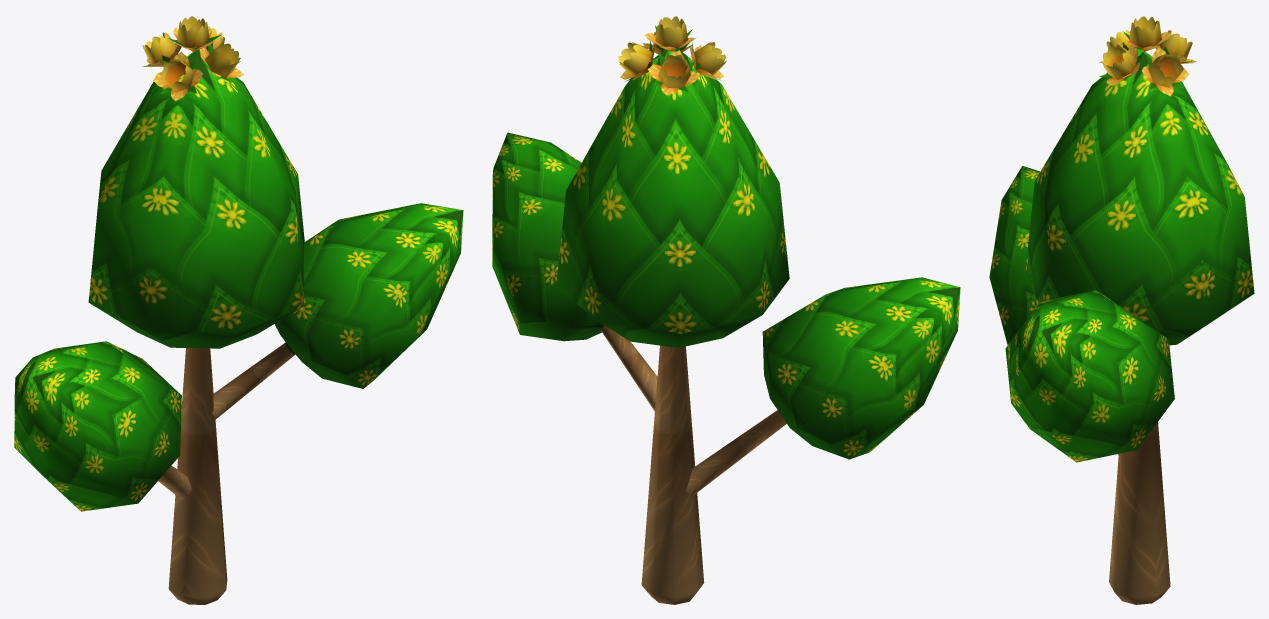
File: Tree_05.FBX
3 renders of one model, left to right at view 1: azimuth 30°, elevation 25°; view 2: azimuth 150°, elevation 25°; view 3: azimuth 270°, elevation 25°, orthographic.
Visible parts, largest first — view 1: Tree_05; view 2: Tree_05; view 3: Tree_05.
Boxes of the visible parts, box(x1,y1,x2,y2) form: Tree_05: box(14, 16, 463, 604); Tree_05: box(492, 16, 960, 604); Tree_05: box(989, 16, 1254, 604).
Bounding box in the file's own units: 3.37 × 4.16 × 1.73.
